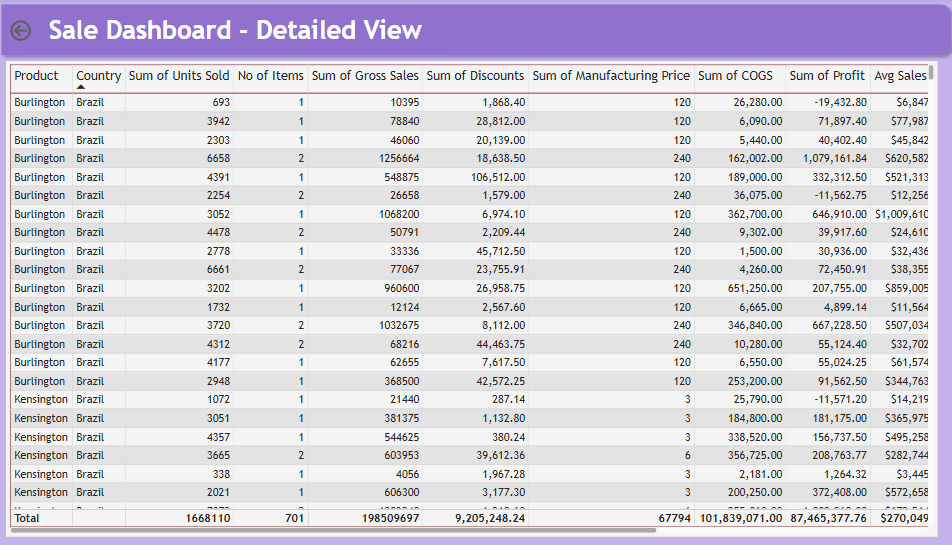

The page's visual inventory and layout, read from the dashboard file:
{"tool":"powerbi","page":{"name":"Drill Through","canvas":[1400,800],"ordinal":1},"visuals":[{"type":"shape","box":[0,0,1400,92.3],"z":0},{"type":"textbox","box":[45.2,18.8,608.6,56.5],"z":1000},{"type":"tableEx","fields":{"Values":["Data.Product","Data.Country","Sum(Data.Units Sold)","Measure.No of Items","Sum(Data.Gross Sales)","Sum(Data.Discounts)","Sum(Data.Manufacturing Price)","Sum(Data.COGS)","Sum(Data.Profit)","Measure.Avg Sales","Data.Month Name","Measure.Avg Sales per Month"]},"box":[16.6,92.1,1354.7,691.7],"z":2000},{"type":"actionButton","box":[17,28.3,99.9,39.6],"z":3000}]}

Visuals, with their boxes in screenshot pixels (x1, y1, x2, y2), scaled from the page's 1400x800 canvas onto the 952x545 screenshot:
shape: Rect(0, 0, 951, 63)
textbox: Rect(31, 13, 445, 51)
tableEx - Data.Product x Data.Country: Rect(11, 63, 932, 534)
actionButton: Rect(12, 19, 79, 46)
